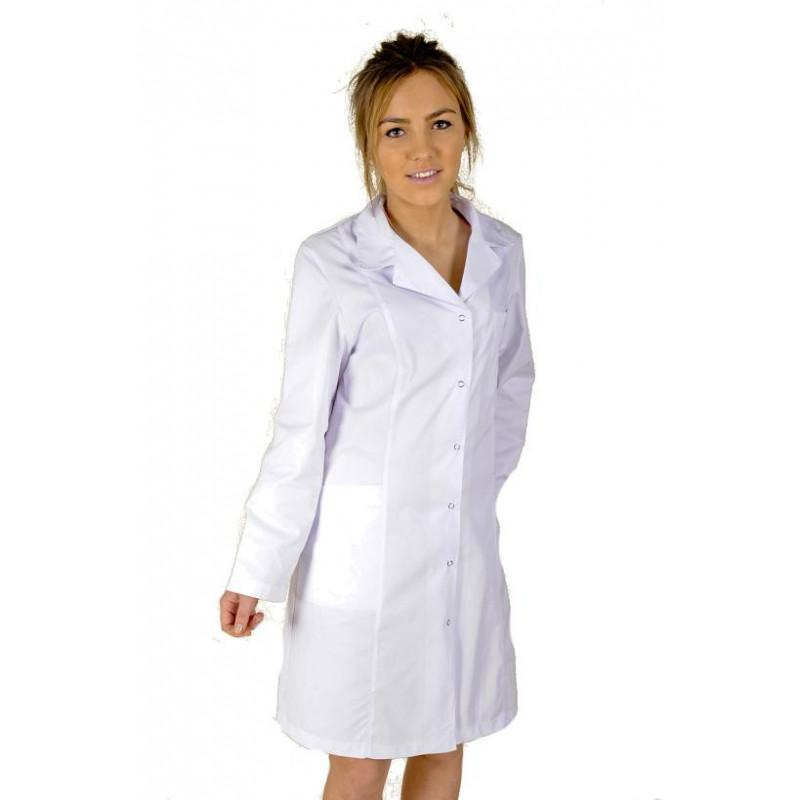Bata-Correcta: (220, 34, 534, 799)
